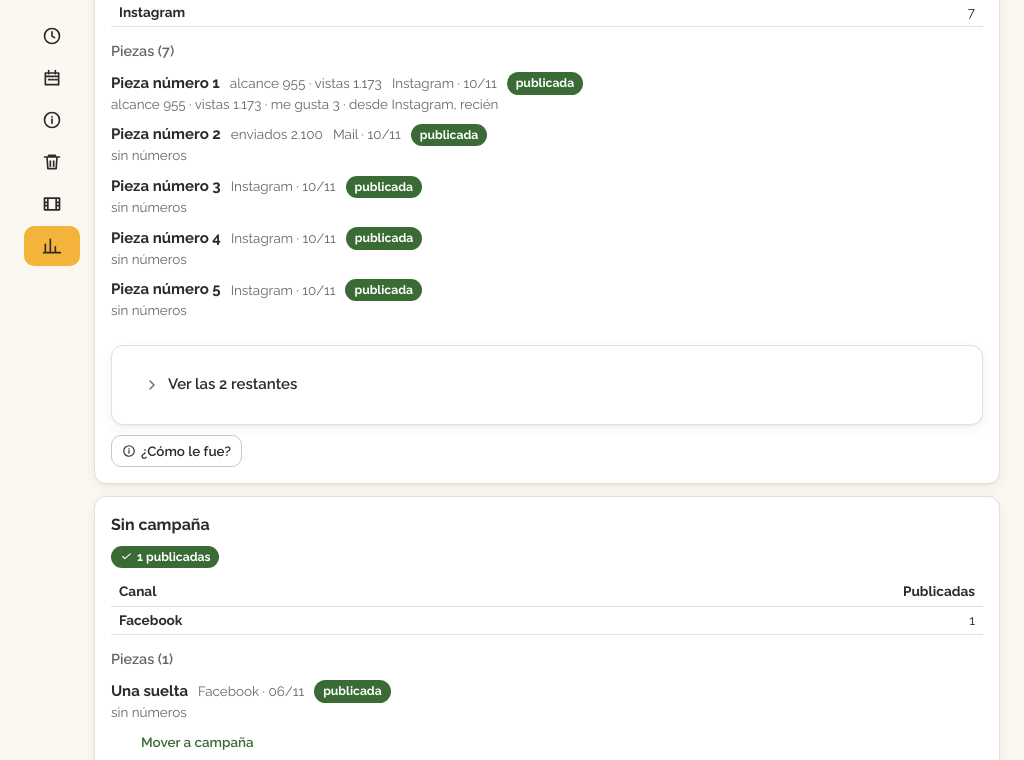
Métricas v4: números en las piezas de las campañas › las primeras 5 se ven sin abrir nada con sus números; el resto va plegado
The width and height of the screenshot is (1024, 760).
(page scrolled)
Check: the text "Pieza número 1" is shown, box x1=111 y1=72 x2=220 y2=94
Check: the text "alcance 955 · vistas 1.173" is shown, box x1=230 y1=74 x2=382 y2=93
Click the heading "Ver las 2 restantes". click: [221, 384]
box: x1=144 y1=375 x2=297 y2=393
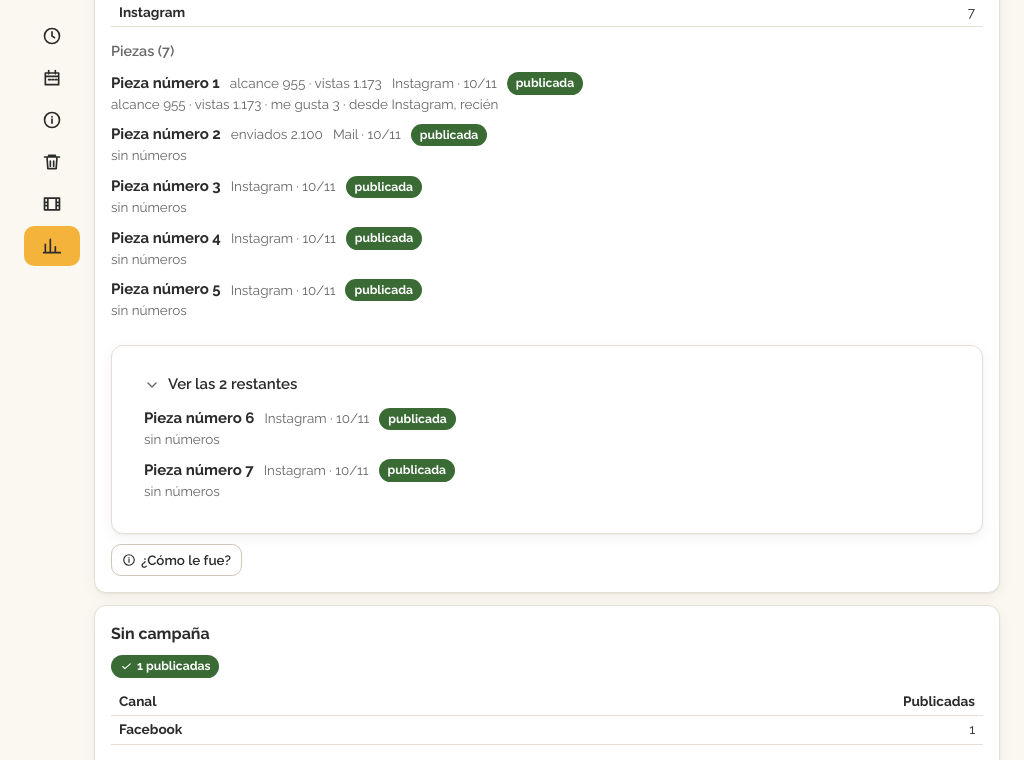
Check: the text "Pieza número 7" is shown, box x1=144 y1=460 x2=254 y2=481
